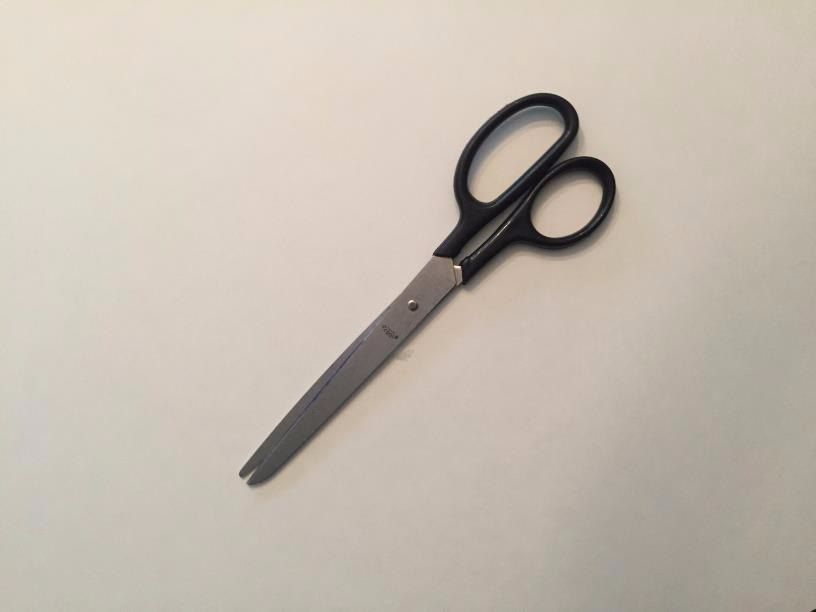scissor: (194, 68, 660, 534)
